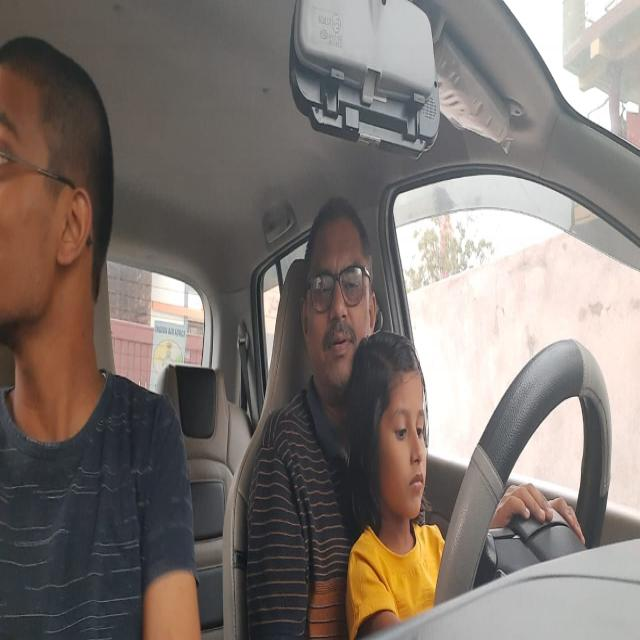child: (354, 324, 432, 540)
person: (1, 28, 123, 390), (297, 187, 380, 391)
